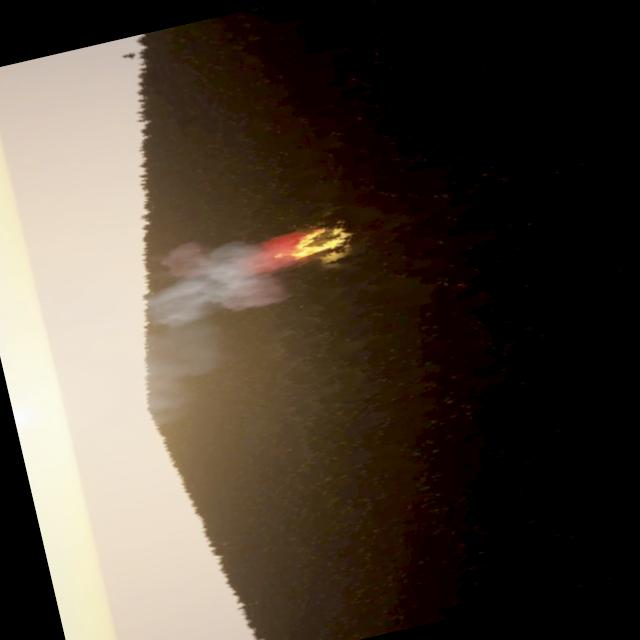fire: (278, 216, 348, 264)
smoke: (106, 222, 303, 412)
